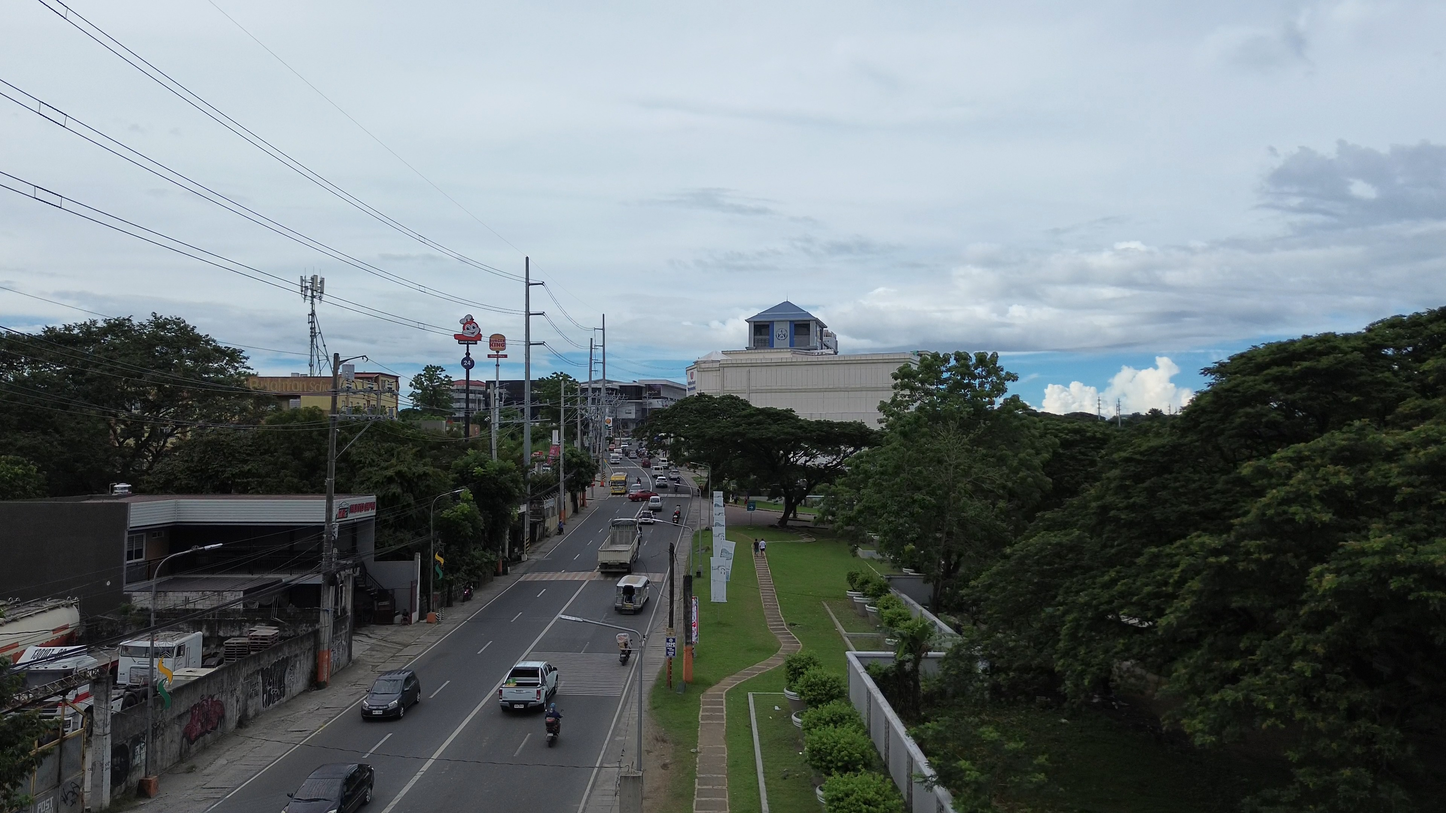car: (628, 490, 660, 505), (654, 477, 670, 492), (648, 494, 662, 510), (609, 453, 622, 464), (669, 474, 682, 484)
motorcycle: (545, 717, 560, 747), (462, 583, 473, 602)
vehicle: (0, 598, 80, 661), (283, 763, 374, 813), (15, 646, 100, 689), (362, 668, 421, 718), (498, 661, 559, 709), (598, 519, 641, 572), (155, 631, 202, 671), (615, 574, 650, 614), (545, 708, 560, 747), (616, 633, 631, 665), (610, 473, 628, 495), (628, 488, 658, 501), (635, 509, 654, 524), (653, 477, 670, 492), (609, 452, 622, 464), (651, 464, 665, 475), (669, 474, 682, 485), (638, 456, 650, 467), (626, 449, 636, 459)
